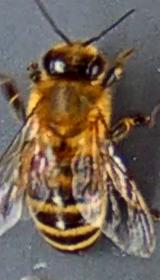varroa_mite: (27, 145, 49, 179)
